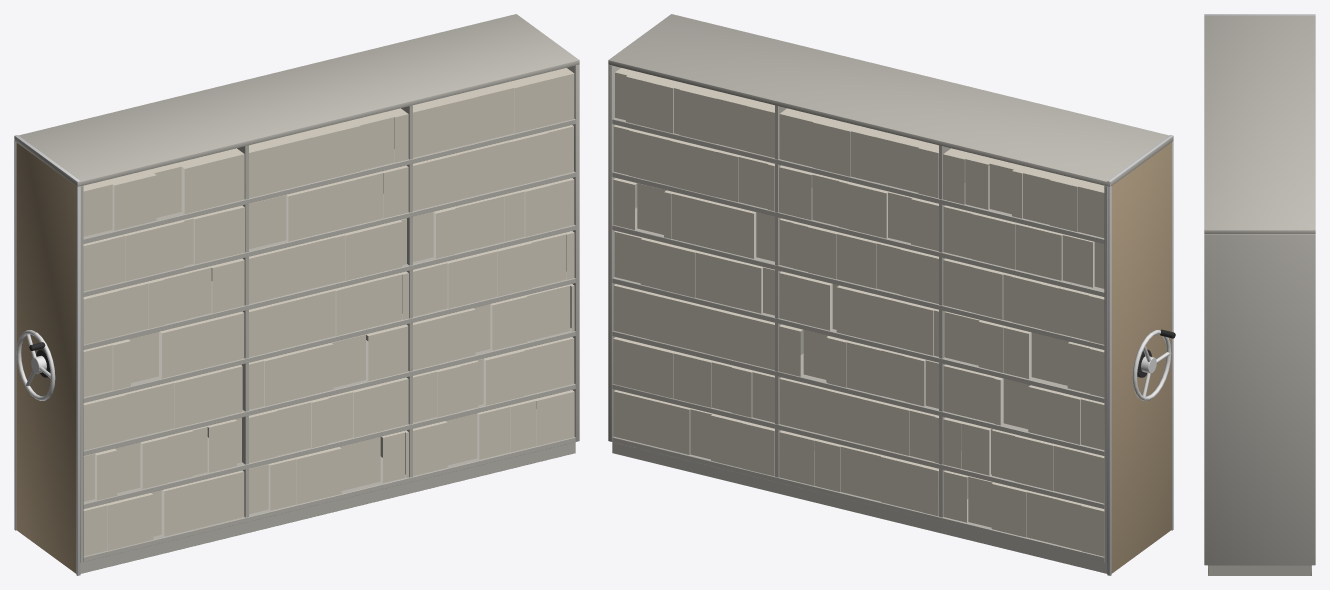
File: Kit_MobileShelving_3.fbx
The picture shows the model from 3 angles, left to right: view 1: azimuth 30°, elevation 25°; view 2: azimuth 150°, elevation 25°; view 3: azimuth 270°, elevation 25°; orthographic projection. The views are drawn at different scales.
Parts seen in each view (by area): view 1: Kit_MobileShelving_3_LOD0; view 2: Kit_MobileShelving_3_LOD0; view 3: Kit_MobileShelving_3_LOD0.
Part boxes in pixels (<box>): Kit_MobileShelving_3_LOD0: <box>14,14,579,575</box>; Kit_MobileShelving_3_LOD0: <box>608,14,1175,575</box>; Kit_MobileShelving_3_LOD0: <box>1204,14,1315,575</box>.
Size of what is drawn, in the model's own units: 2.93 by 2.1 by 0.61.
